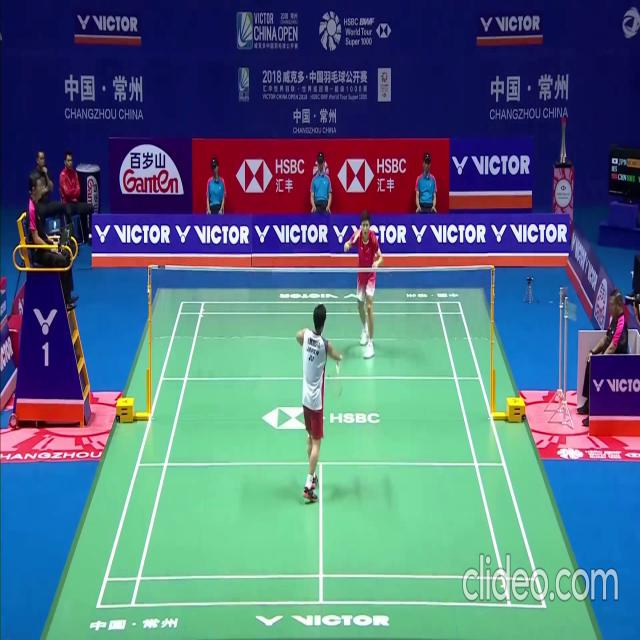Shuttlecock: (335, 365, 339, 373)
